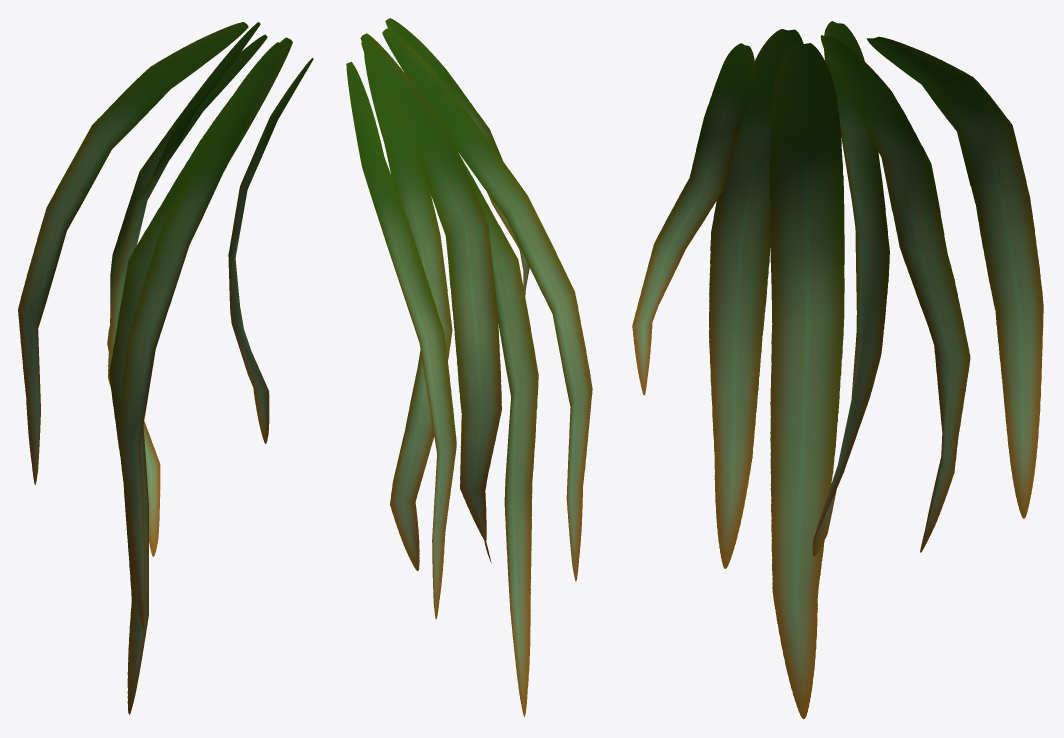
Rendered from SM_WallGrassClump_b.fbx.
The picture shows the model from 3 angles, left to right: view 1: azimuth 30°, elevation 25°; view 2: azimuth 150°, elevation 25°; view 3: azimuth 270°, elevation 25°; orthographic projection. The views are drawn at different scales.
Parts seen in each view (by area): view 1: SM_WallGrassClump_b; view 2: SM_WallGrassClump_b; view 3: SM_WallGrassClump_b.
Boxes of the visible parts, box(x1,y1,x2,y2) form: SM_WallGrassClump_b: box(18, 22, 313, 714); SM_WallGrassClump_b: box(346, 18, 592, 716); SM_WallGrassClump_b: box(632, 21, 1043, 719).
Bounding box in the file's own units: 31.48 × 49.73 × 102.
Materials: 1 (1 with a texture image).
